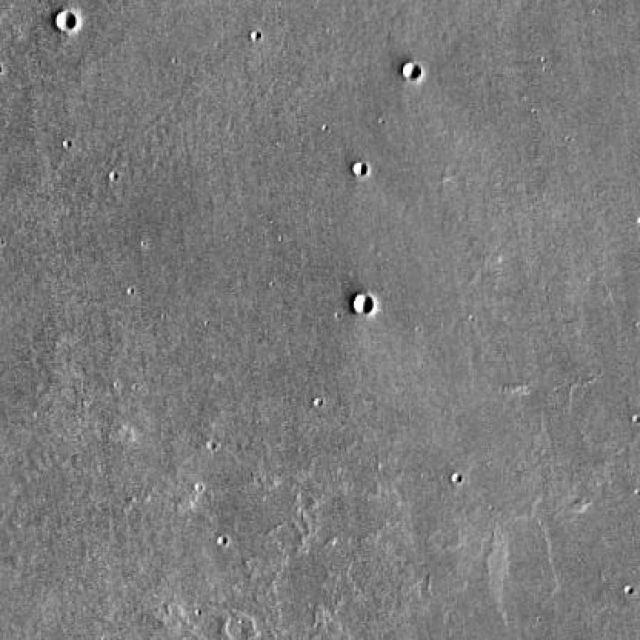crater: (54, 10, 78, 32), (352, 292, 374, 316), (402, 62, 422, 80), (352, 160, 366, 174)
